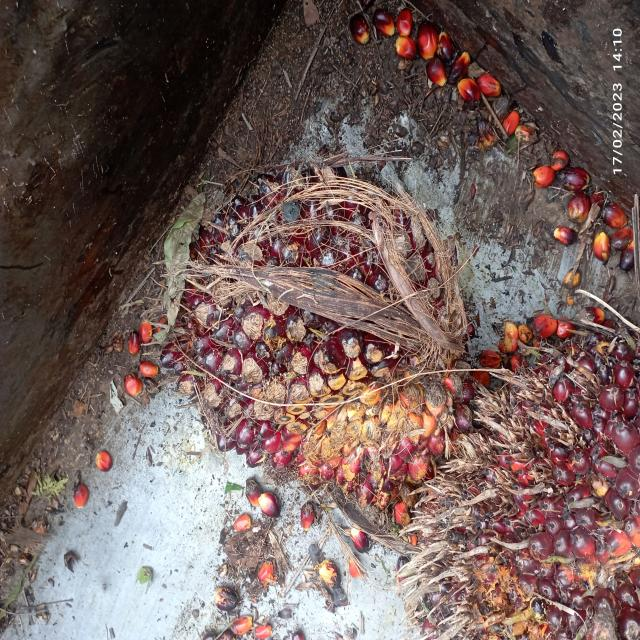fraksi 1: (162, 104, 489, 548), (398, 298, 640, 640)
